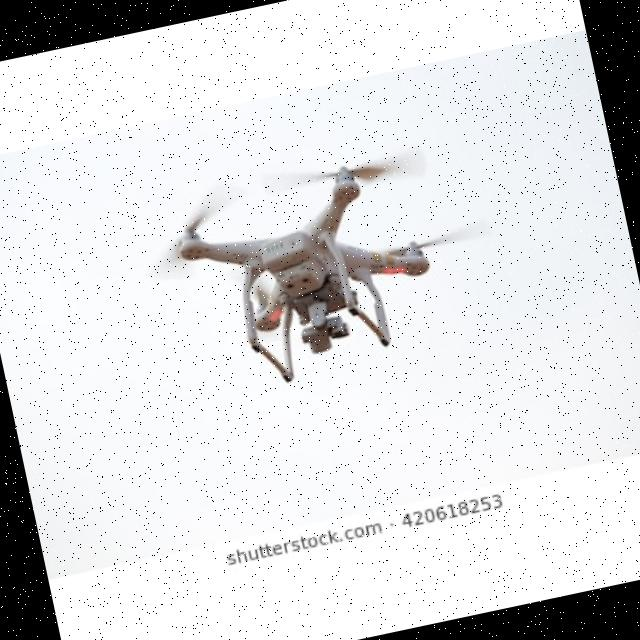Drones: (160, 138, 472, 398)
